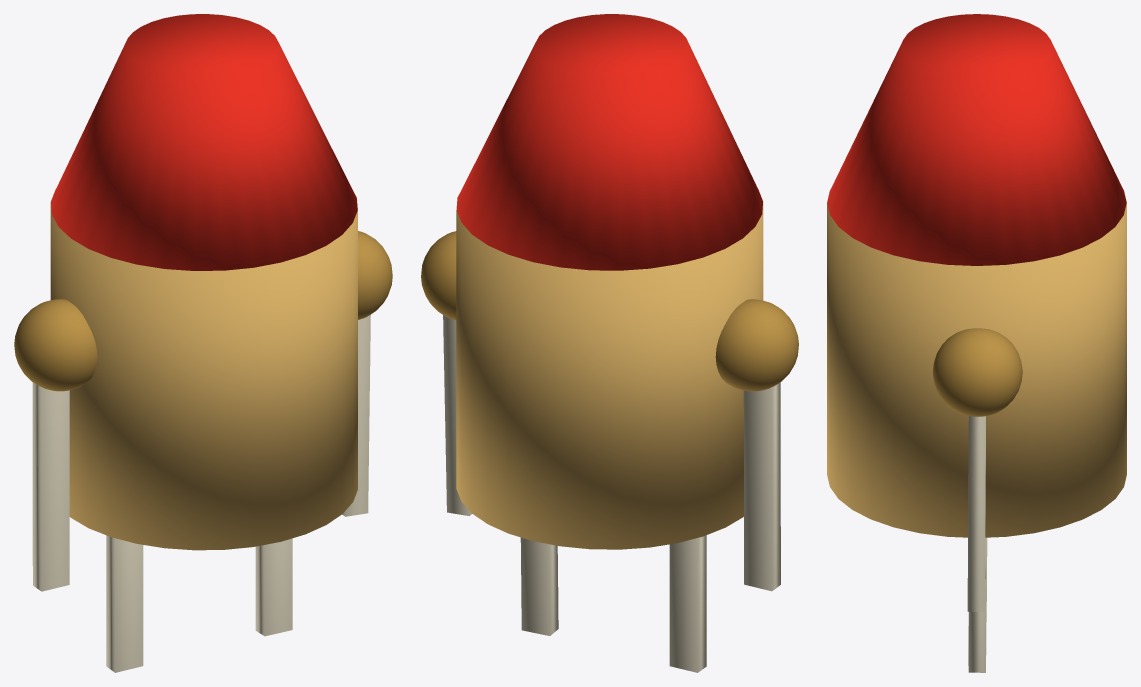
Rendered from Player.fbx.
3 views of the same model, side by side, from view 1: azimuth 30°, elevation 25°; view 2: azimuth 150°, elevation 25°; view 3: azimuth 270°, elevation 25° (orthographic). The views are drawn at different scales.
Visible parts, largest first — view 1: core, head, right_arm, right_shoulder, right_leg, left_leg, left_arm, left_shoulder; view 2: core, head, right_arm, right_shoulder, right_leg, left_leg, left_arm, left_shoulder; view 3: core, head, left_shoulder, left_arm, left_leg.
Part boxes in pixels (<box>): core: <box>50,189,357,550</box>; head: <box>51,14,357,270</box>; right_arm: <box>32,382,69,591</box>; right_shoulder: <box>14,299,97,391</box>; right_leg: <box>106,535,143,672</box>; left_leg: <box>255,538,292,636</box>; left_arm: <box>342,314,370,516</box>; left_shoulder: <box>358,231,392,319</box>; core: <box>456,190,763,549</box>; head: <box>456,14,762,270</box>; right_arm: <box>743,382,780,591</box>; right_shoulder: <box>715,299,798,391</box>; right_leg: <box>669,535,706,672</box>; left_leg: <box>520,537,558,635</box>; left_arm: <box>443,315,471,516</box>; left_shoulder: <box>421,231,456,319</box>; core: <box>827,191,1126,537</box>; head: <box>827,14,1126,265</box>; left_shoulder: <box>932,328,1022,416</box>; left_arm: <box>967,416,986,612</box>; left_leg: <box>968,537,987,672</box>.
Bounding box in the file's own units: 174 × 274 × 127.
